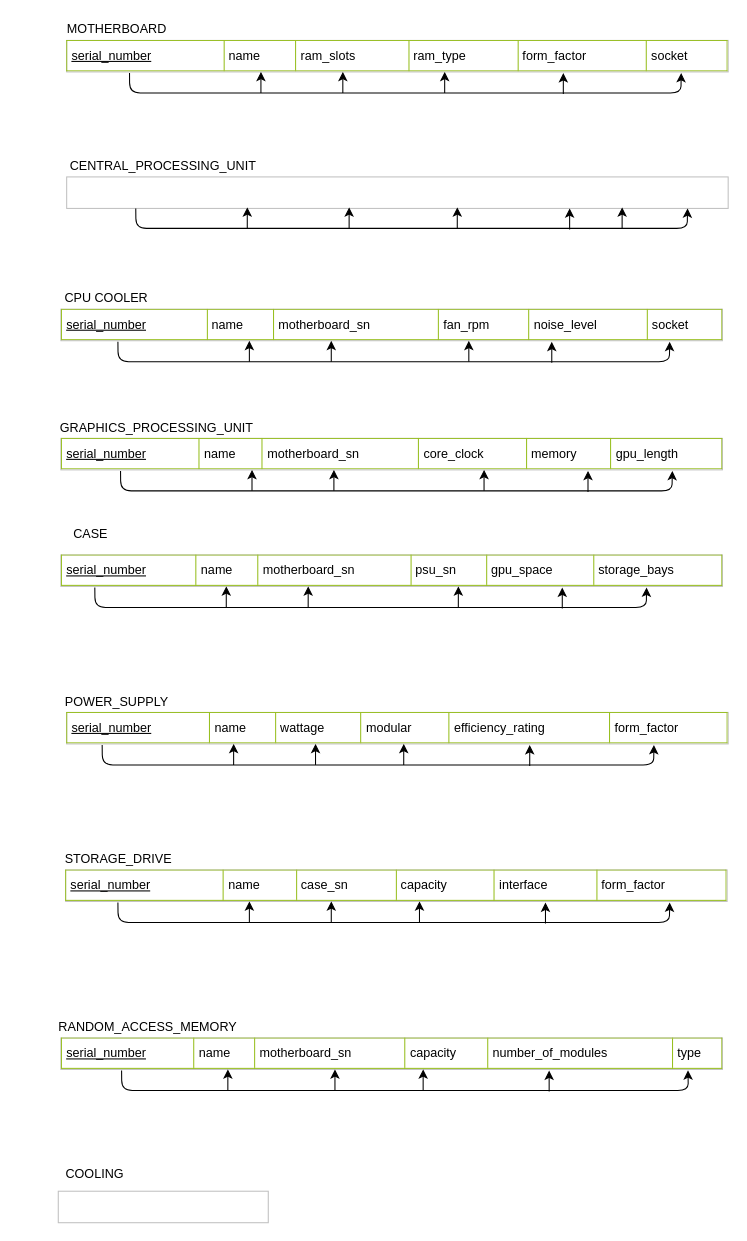
Some shapes in this 747 by 1241 pixel diagram are drawn without their labels. Here are the shapes that lost their labels. From the top down, the centre of each, then its label:
At [397,192]: "serial_number name motherboard_sn tdp core_count smt socket".
At [162,1206]: "cpu_sn cooler_sn".
